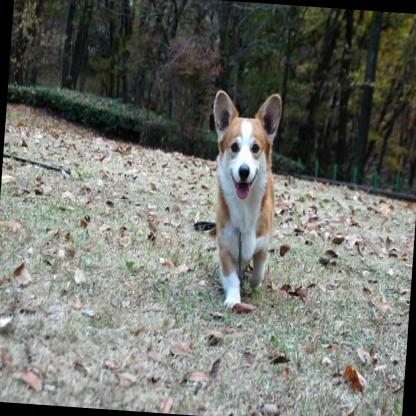Pembroke: (197, 84, 286, 316)
